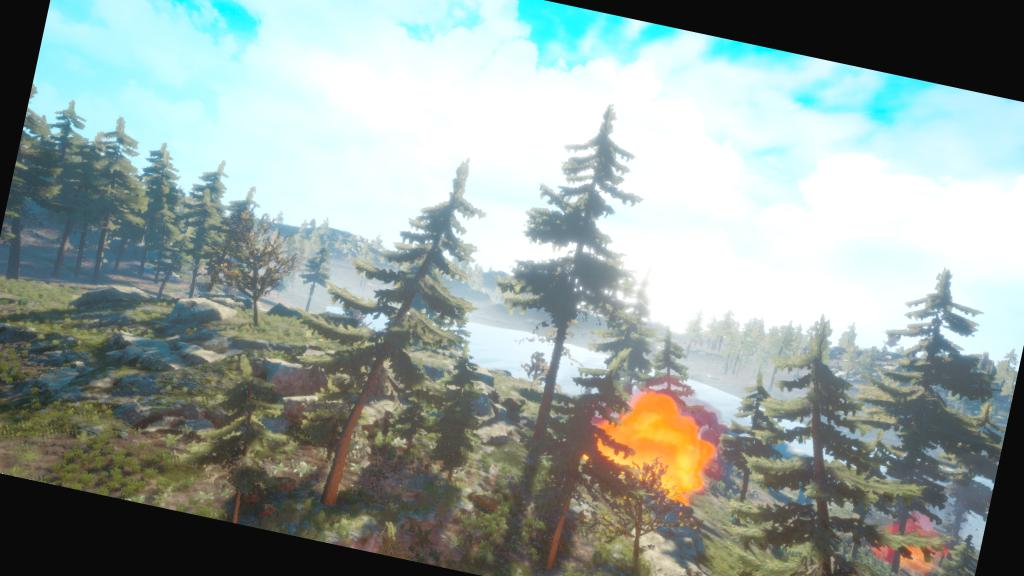Fire: (572, 376, 734, 512), (867, 504, 952, 575)
